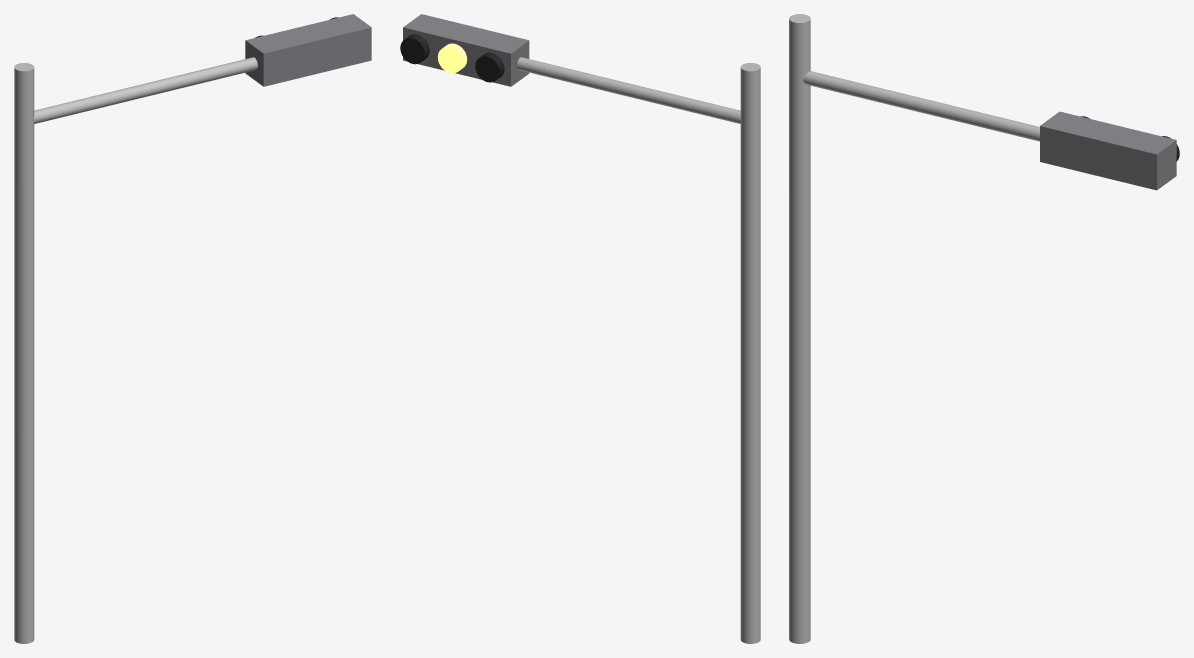
File: traffic_light_yellow.glb
The picture shows the model from 3 angles, left to right: view 1: azimuth 30°, elevation 25°; view 2: azimuth 150°, elevation 25°; view 3: azimuth 330°, elevation 25°; orthographic projection. The views are drawn at different scales.
Visible parts, largest first — view 1: Pole, Housing, Arm; view 2: Pole, Housing, Arm, Lens_Green, Lens_Red, Lens_Yellow; view 3: Pole, Housing, Arm.
Boxes of the visible parts, x1=… form: Pole: x1=14, y1=63, x2=34, y2=643; Housing: x1=245, y1=14, x2=371, y2=86; Arm: x1=34, y1=57, x2=257, y2=123; Pole: x1=740, y1=63, x2=760, y2=643; Housing: x1=403, y1=14, x2=529, y2=86; Arm: x1=517, y1=57, x2=740, y2=123; Lens_Green: x1=475, y1=52, x2=504, y2=82; Lens_Red: x1=400, y1=34, x2=429, y2=64; Lens_Yellow: x1=437, y1=43, x2=467, y2=73; Pole: x1=789, y1=14, x2=810, y2=643; Housing: x1=1040, y1=111, x2=1176, y2=190; Arm: x1=803, y1=71, x2=1039, y2=141.
Bounding box in the file's own units: 2.41 × 3.8 × 0.28.
